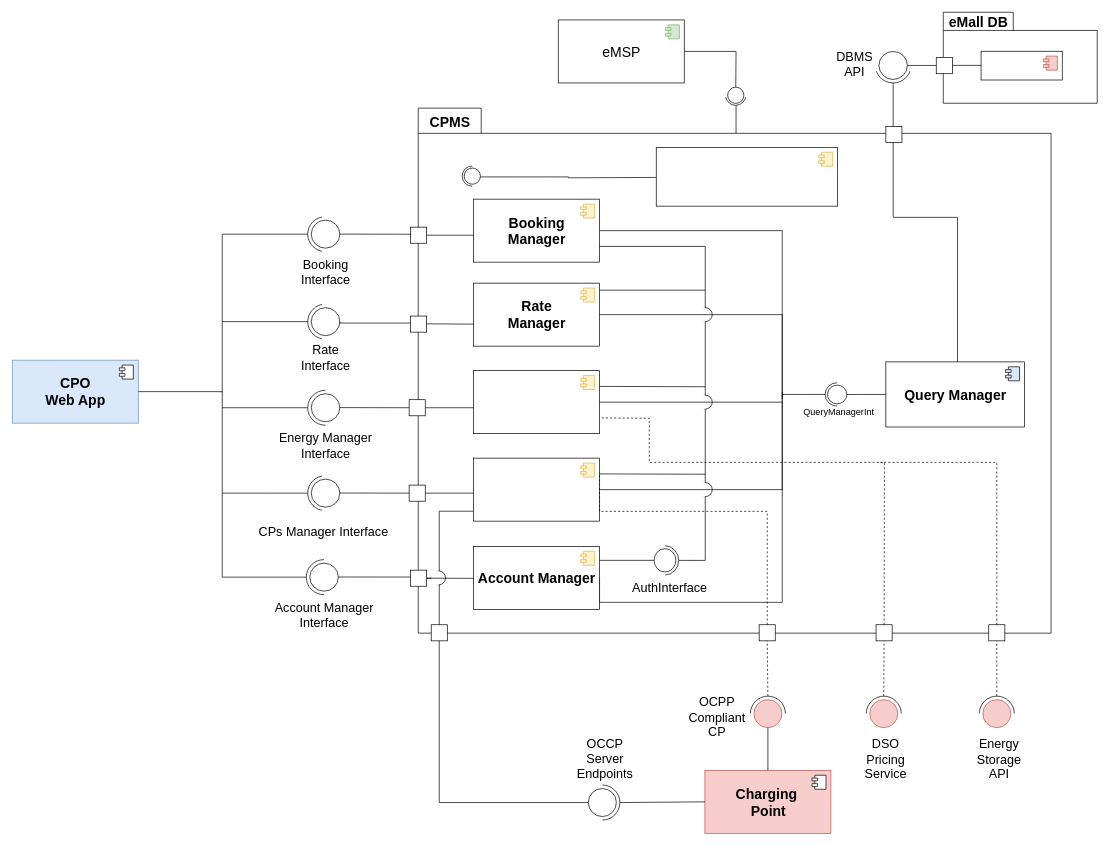
This 1110x846 diagram has some shape labels left out. Each missing label, with the box of its shape:
Charging Points Manager: (473, 457, 600, 521)
CPMStoeMSPConnector: (656, 147, 838, 206)
DBMS: (980, 51, 1062, 80)
Energy Manager: (473, 370, 600, 434)
